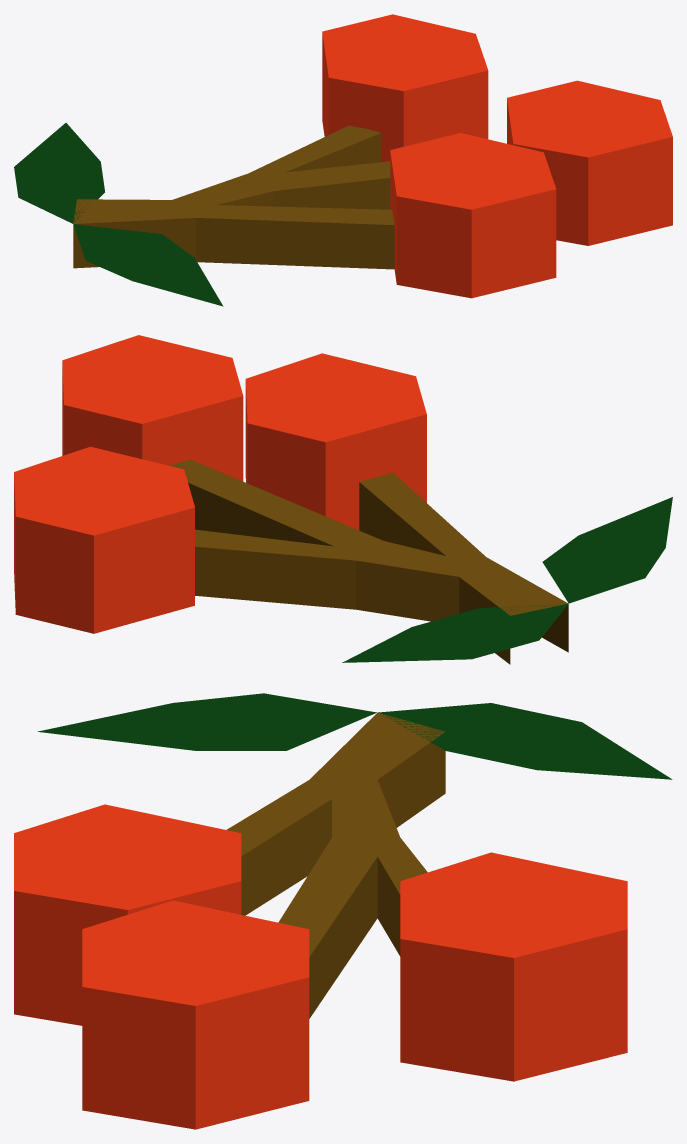
Rendered from inv_white_berries.obj.
The picture shows the model from 3 angles, top to bottom: view 1: azimuth 30°, elevation 25°; view 2: azimuth 150°, elevation 25°; view 3: azimuth 270°, elevation 25°; orthographic projection. The views are drawn at different scales.
Bounding box in the file's own units: 0.3047 × 0.0469 × 0.2266.
